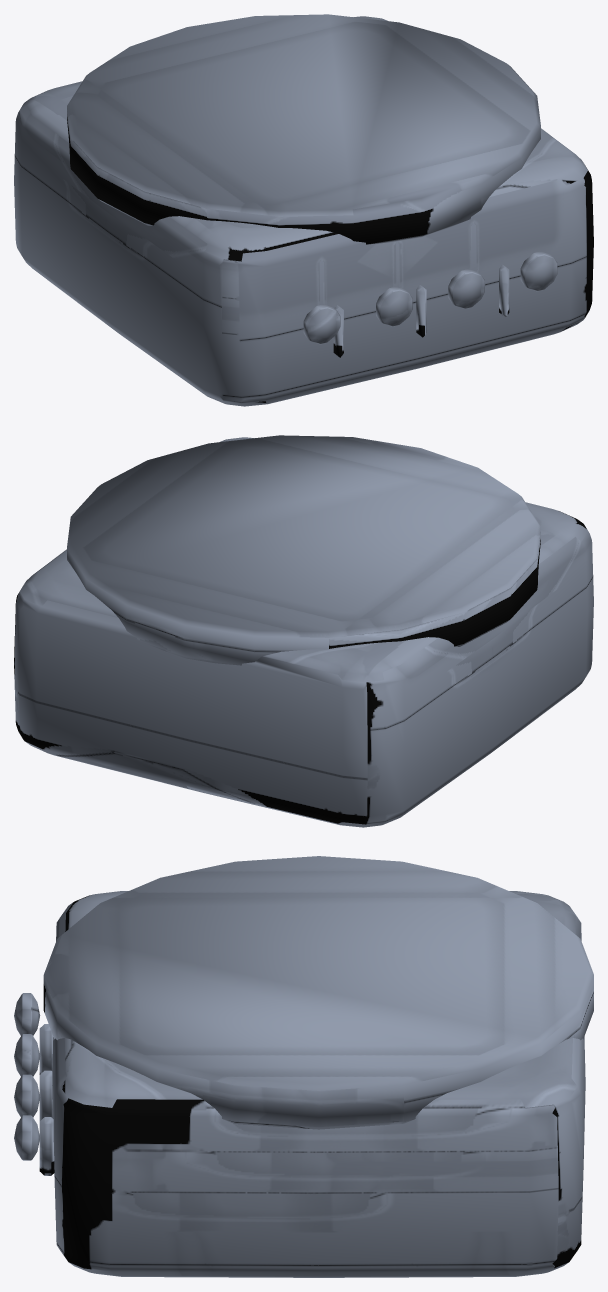
Rendered from Remache_PunoIzq.fbx.
3 views of the same model, one above another, from view 1: azimuth 30°, elevation 25°; view 2: azimuth 150°, elevation 25°; view 3: azimuth 270°, elevation 25° (orthographic). The views are drawn at different scales.
Parts seen in each view (by area): view 1: Remache_PunoIzq; view 2: Remache_PunoIzq; view 3: Remache_PunoIzq.
Part boxes in pixels (x1,y1,x2,y2): Remache_PunoIzq: (14,14,593,406); Remache_PunoIzq: (14,435,593,827); Remache_PunoIzq: (14,856,593,1277).
Bounding box in the file's own units: 2.36 × 1.01 × 2.49.
